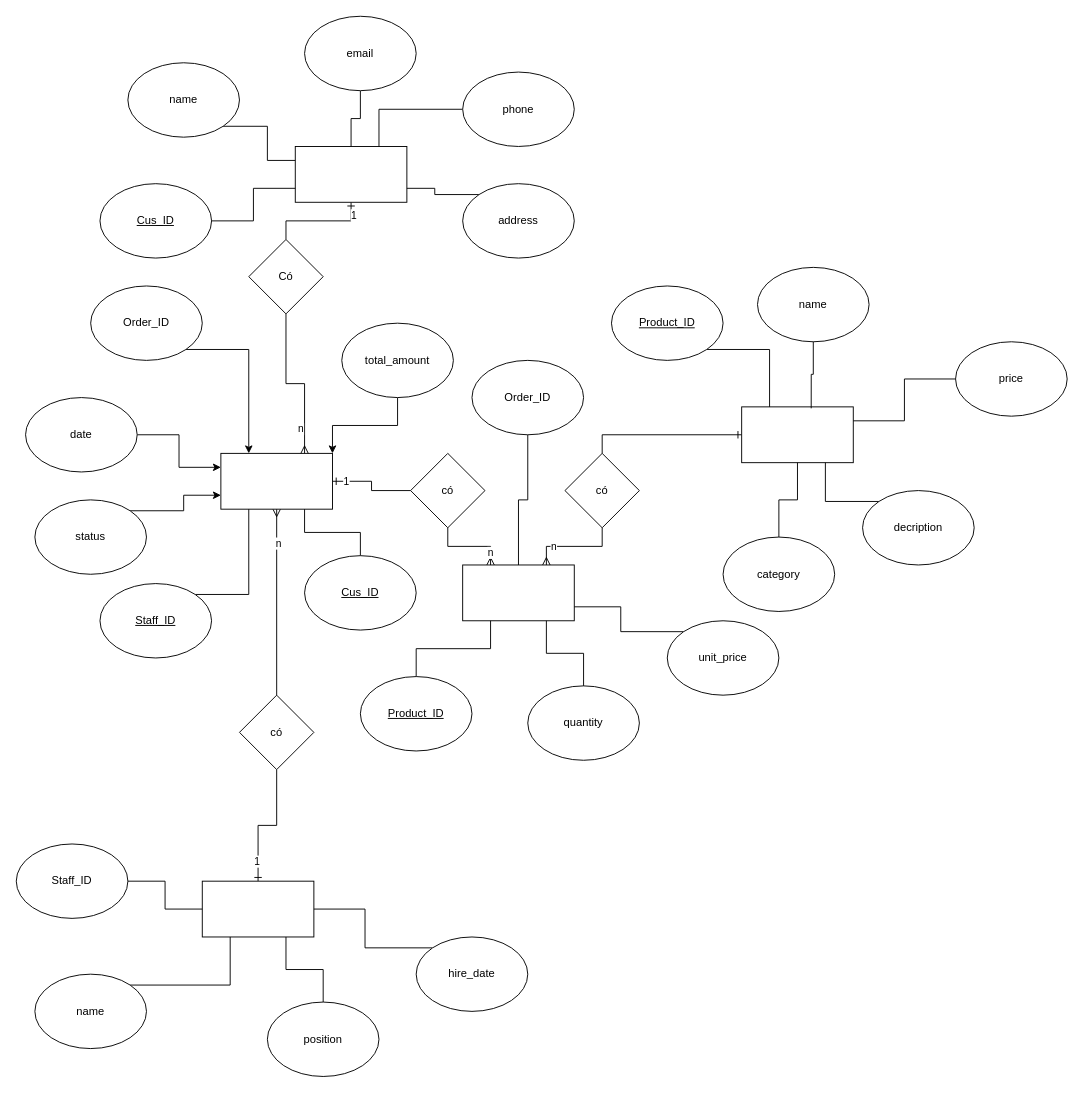
This 1083x1093 diagram has some shape labels left out. The shapes that lost their labels are listed below. From the top down, each one's box as (x1, y1, x2, y2) in pixels, then its label:
(294, 146, 407, 202): Customer
(741, 406, 853, 463): Product
(220, 452, 332, 509): Order
(462, 564, 574, 621): OrderDetail
(201, 880, 314, 937): Staff
